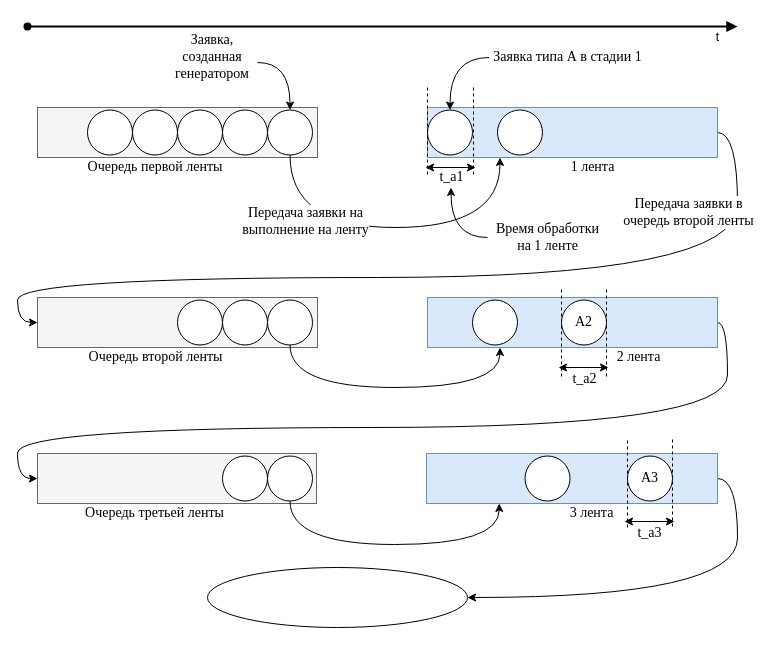
Image size: 770x645. Some labels were removed from this diagram. Each missing label, with the box of its shape:
А1: (426, 109, 472, 155)
Пул обработанных заявок: (206, 566, 468, 628)
